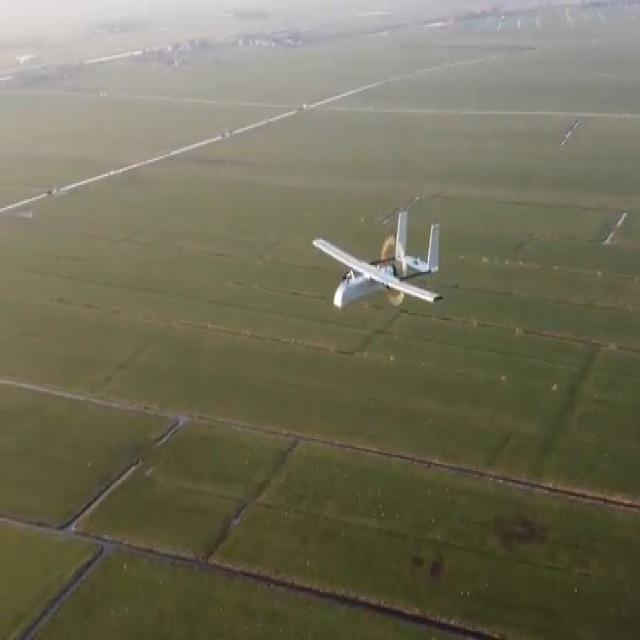iha: (310, 234, 441, 290)
